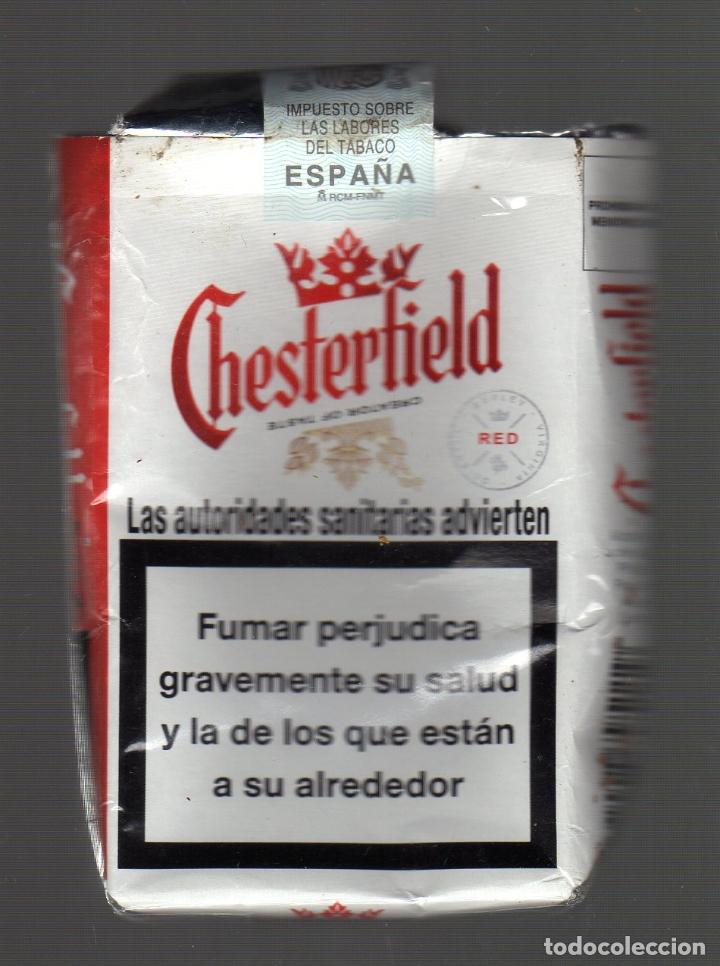chesterfield_red: (112, 138, 580, 906)
